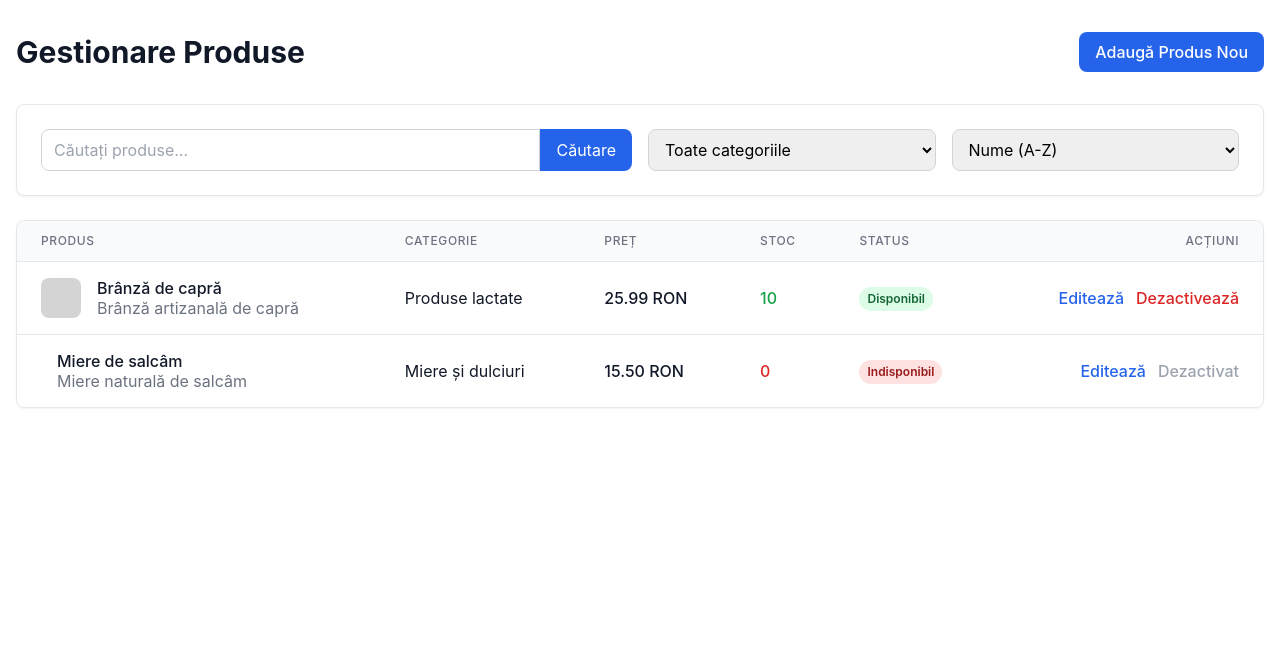
ProductManager Component › Dynamic Image Fields › adds and removes image fields
# Open modal
Click the button "Adaugă Produs Nou": (1172, 52) [1079,32,1264,72]
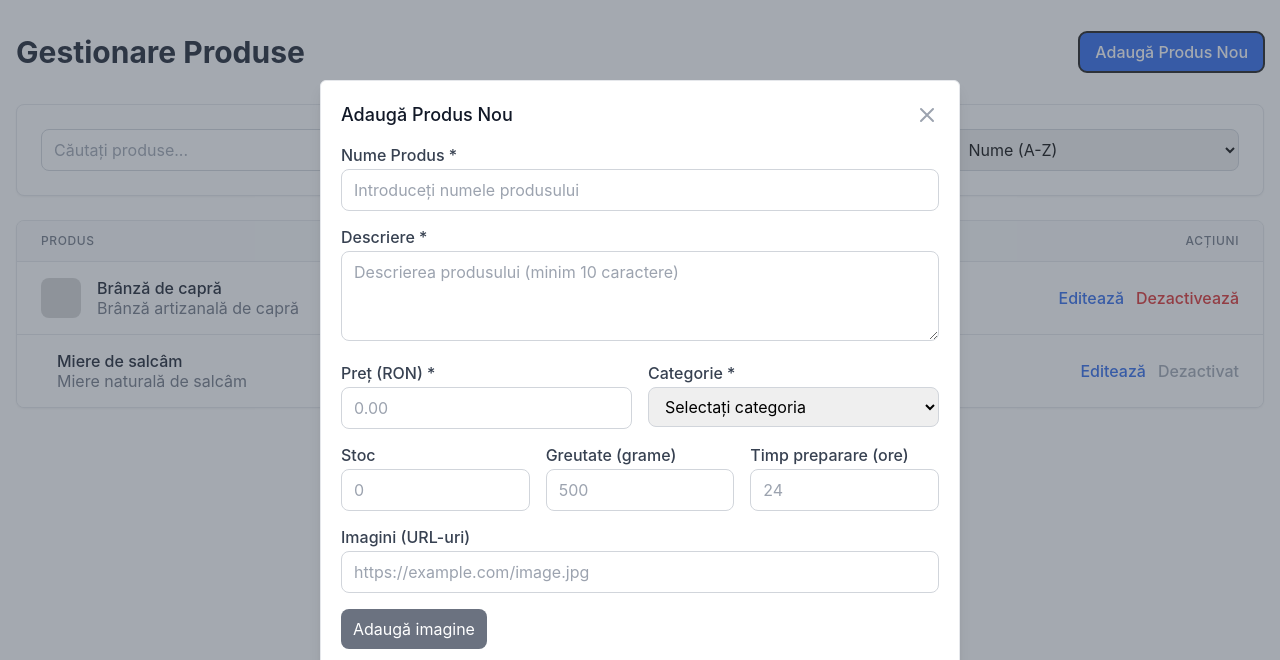
expect the number of fields with placeholder "https://example.com/image.jpg" is 1: met, box [341,551,939,593]
# Add image field
Click the button "Adaugă imagine": (414, 629) [341,609,487,649]
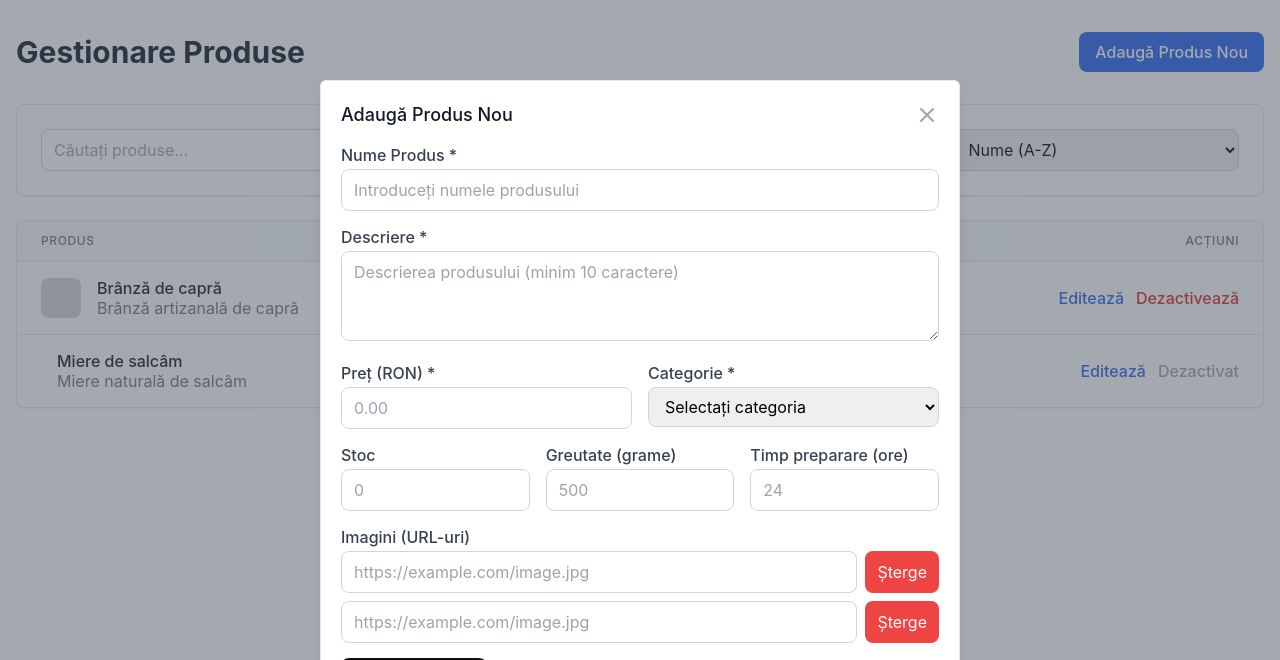
expect the number of fields with placeholder "https://example.com/image.jpg" is 2: met, box [341,551,857,593]; [341,601,857,643]
# Remove image field
Click the 1st button "Șterge": (902, 572) [865,551,939,593]
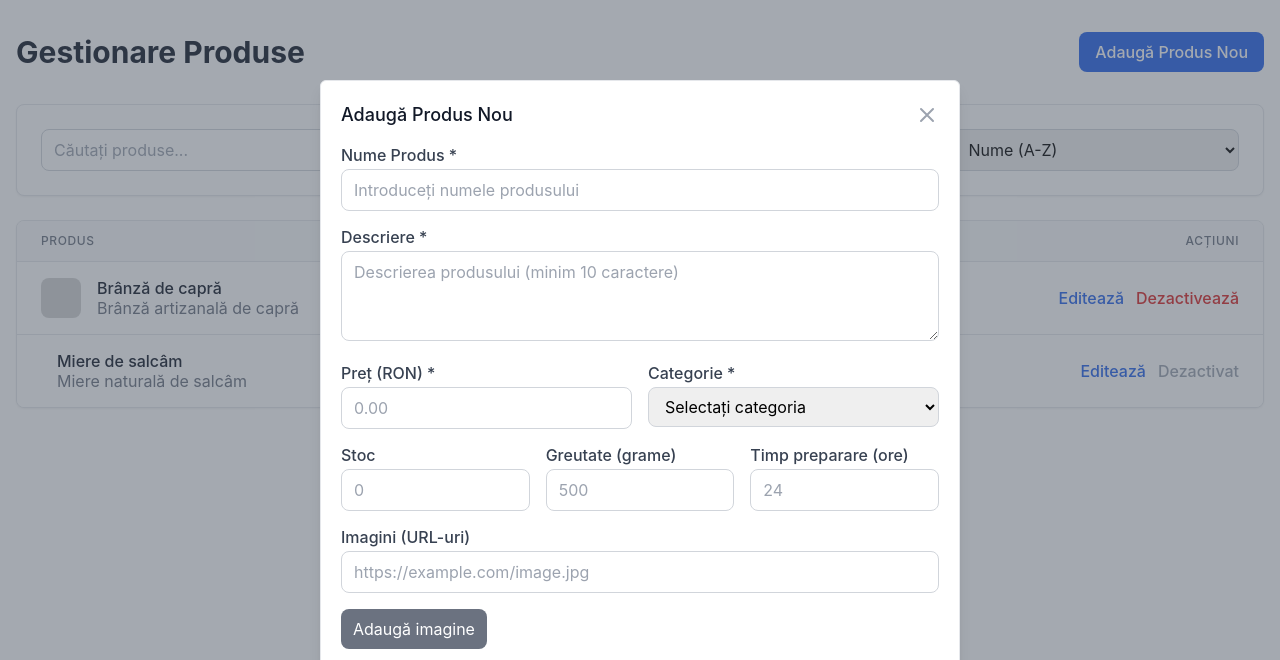
expect the number of fields with placeholder "https://example.com/image.jpg" is 1: met, box [341,551,939,593]
